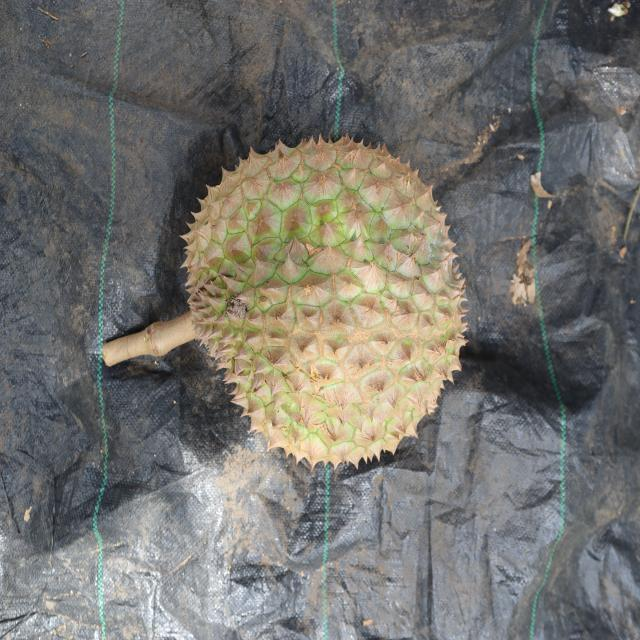mature: (179, 135, 471, 470)
